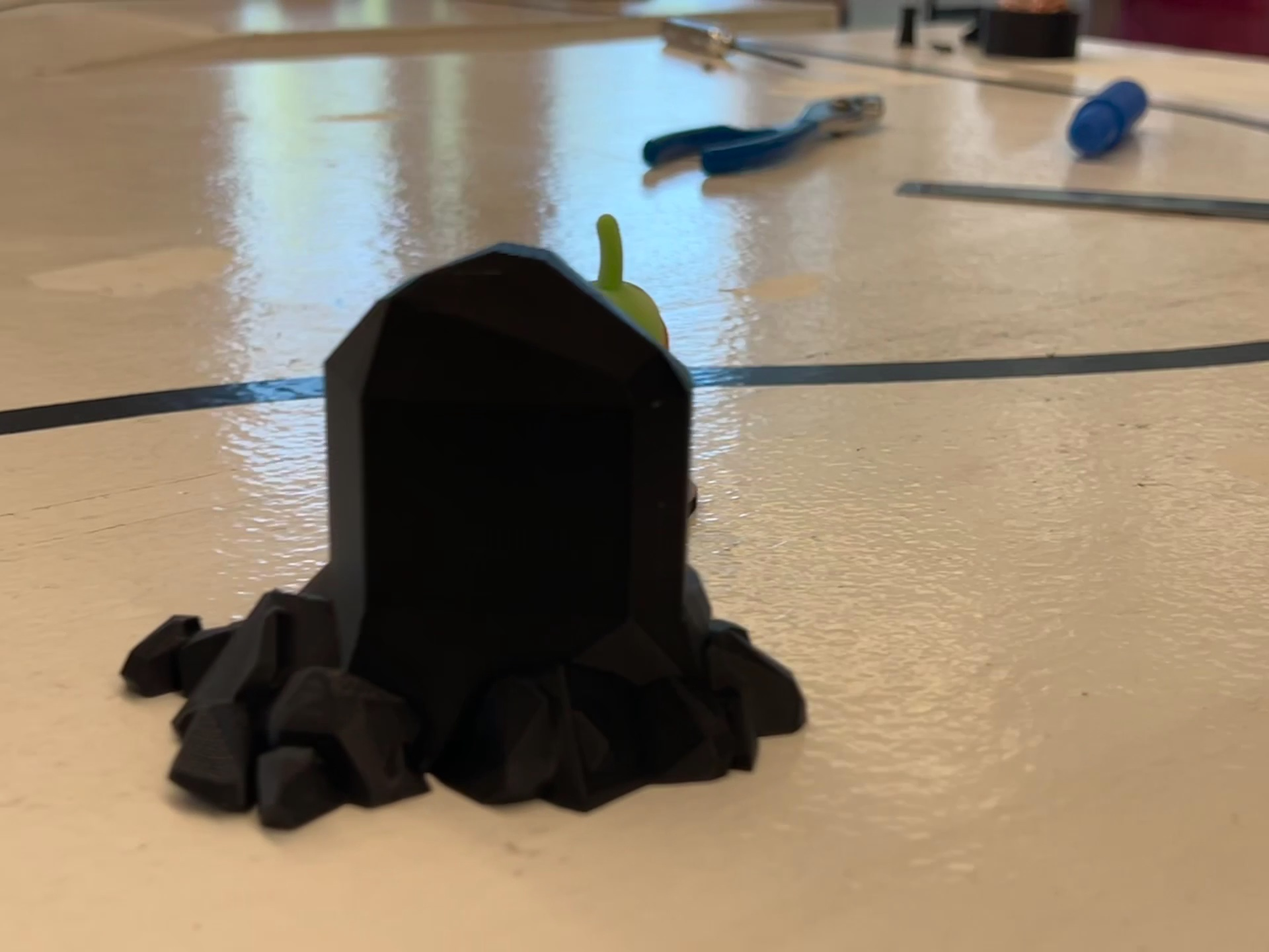teletubby: (592, 214, 669, 348)
